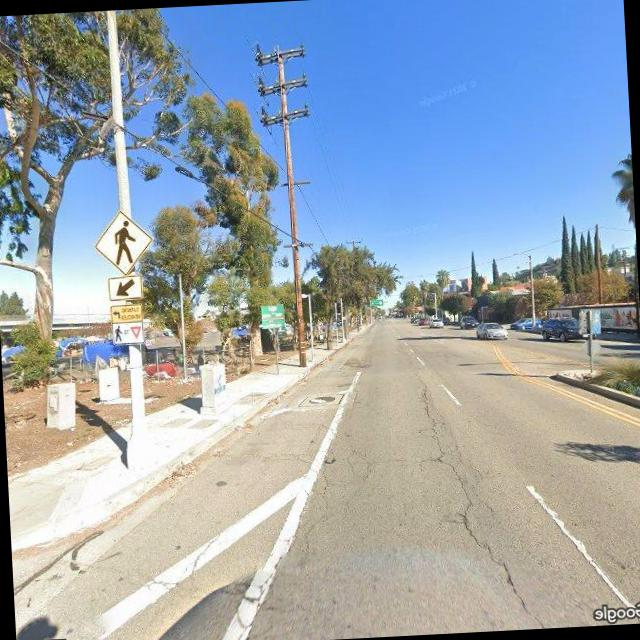crack: (419, 360, 558, 632)
